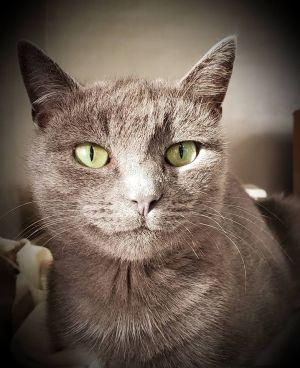rblue: (12, 25, 246, 272)
